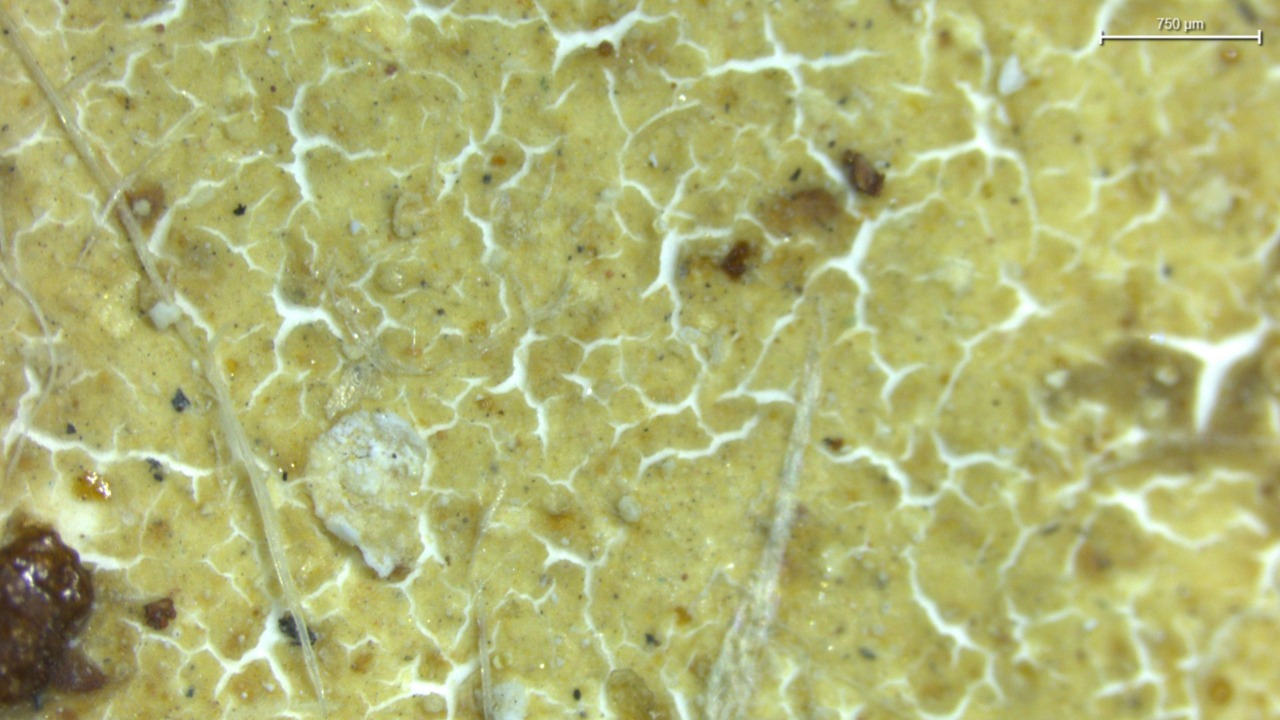microplastic_fragment: (305, 411, 431, 579), (999, 54, 1025, 94), (152, 304, 180, 326)
